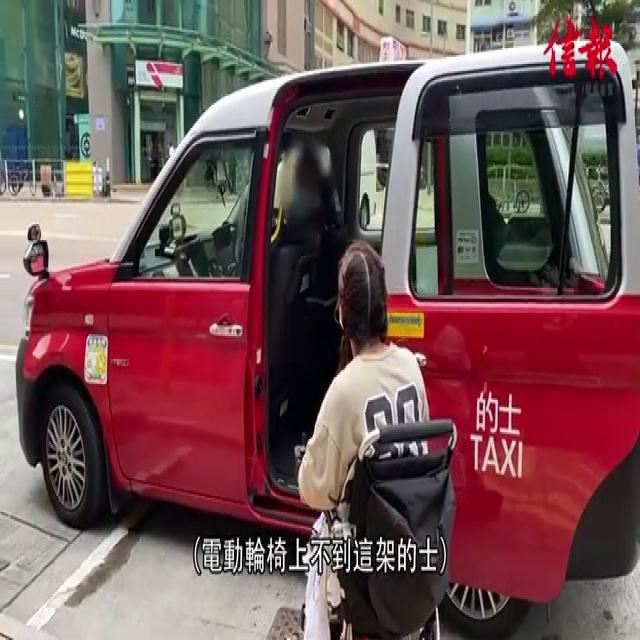wheelchairs: (281, 394, 456, 640)
